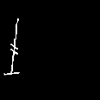treble_crochet: (4, 19, 18, 74)
